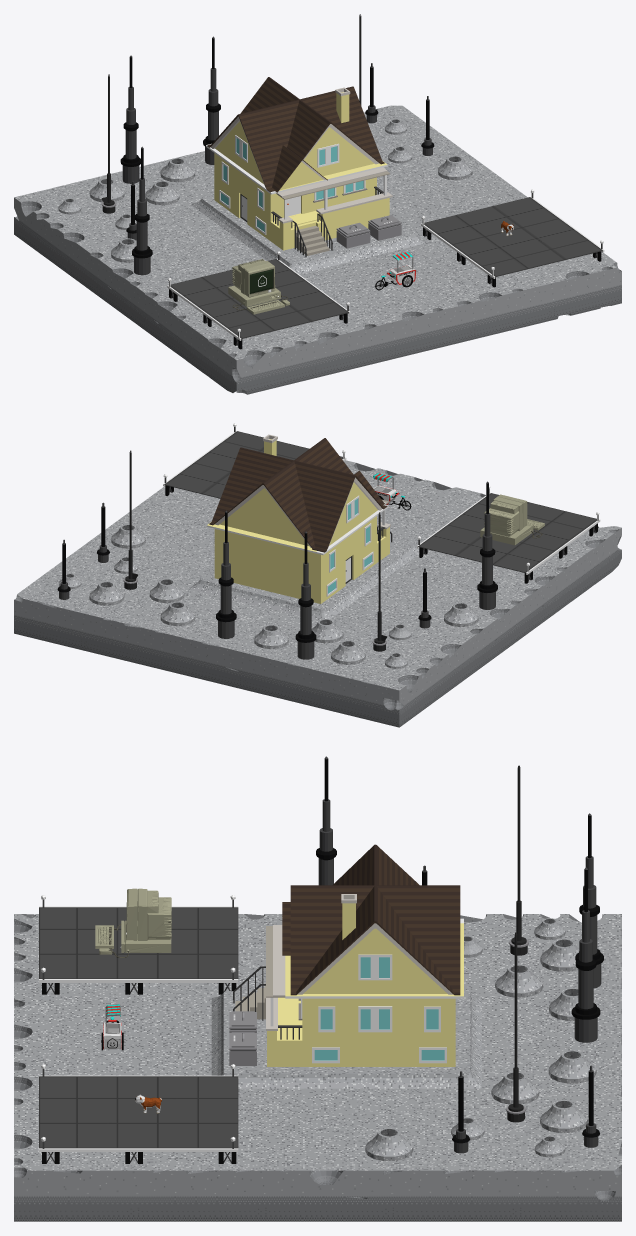
The picture shows the model from 3 angles, top to bottom: view 1: azimuth 30°, elevation 25°; view 2: azimuth 150°, elevation 25°; view 3: azimuth 270°, elevation 25°; orthographic projection. The views are drawn at different scales.
Parts seen in each view (by area): view 1: Cube.027, Cube.1555, Cube.026, Cube.025, Cube.028, OBJRANDOM_RETRO_PC, Cylinder.020, Cylinder.021, Cylinder.017, VEHICLES_SNOWBAL_BIKE, Cube.029, Cube.030 (+4 smaller); view 2: Cube.027, Cube.1555, Cube.025, Cube.028, Cube.026, OBJRANDOM_RETRO_PC, Cylinder.020, Cylinder.021, Cylinder.017, Cylinder.031, Cylinder.028, Cylinder.029 (+8 smaller); view 3: Cube.027, Cube.1555, Cube.026, Cube.025, Cube.028, OBJRANDOM_RETRO_PC, Cylinder.017, Cylinder.020, Cylinder.021, Cylinder.033, Cylinder.031, Cylinder.029 (+10 smaller).
Part boxes in pixels (<box>): Cube.027: <box>14,105,621,394</box>; Cube.1555: <box>206,77,392,256</box>; Cube.026: <box>421,189,604,287</box>; Cube.025: <box>167,251,350,349</box>; Cube.028: <box>191,195,424,274</box>; OBJRANDOM_RETRO_PC: <box>228,259,289,314</box>; Cylinder.020: <box>120,55,140,183</box>; Cylinder.021: <box>132,146,152,275</box>; Cylinder.017: <box>203,36,220,164</box>; VEHICLES_SNOWBAL_BIKE: <box>374,252,415,290</box>; Cube.029: <box>336,222,370,248</box>; Cube.030: <box>368,215,401,240</box>; Cube.027: <box>14,460,621,727</box>; Cube.1555: <box>206,434,392,603</box>; Cube.025: <box>417,485,600,583</box>; Cube.028: <box>190,538,419,620</box>; Cube.026: <box>163,423,346,498</box>; OBJRANDOM_RETRO_PC: <box>480,494,544,545</box>; Cylinder.020: <box>295,531,316,659</box>; Cylinder.021: <box>477,481,497,609</box>; Cylinder.017: <box>216,510,236,638</box>; Cylinder.031: <box>89,581,124,605</box>; Cylinder.028: <box>331,640,365,664</box>; Cylinder.029: <box>160,601,195,626</box>; Cube.027: <box>14,914,621,1221</box>; Cube.1555: <box>233,844,463,1066</box>; Cube.026: <box>39,1064,238,1163</box>; Cube.025: <box>39,895,238,994</box>; Cube.028: <box>211,991,481,1088</box>; OBJRANDOM_RETRO_PC: <box>95,888,171,958</box>; Cylinder.017: <box>571,867,600,1042</box>; Cylinder.020: <box>575,813,603,988</box>; Cylinder.021: <box>316,756,336,885</box>; Cylinder.033: <box>365,1128,413,1160</box>; Cylinder.031: <box>540,1100,587,1132</box>; Cylinder.029: <box>548,1050,596,1083</box>.
Size of the model in its own units: 4000 by 1749 by 4000.
39 materials, 5 textured.
